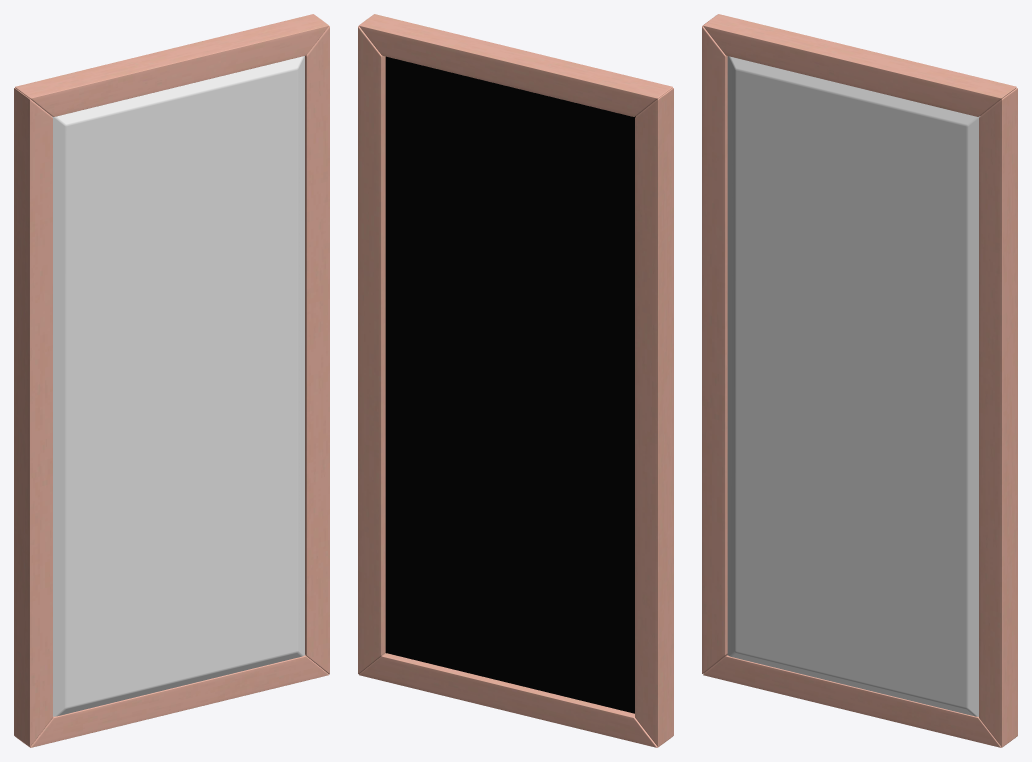
Rendered from mirror.glb.
The picture shows the model from 3 angles, left to right: view 1: azimuth 30°, elevation 25°; view 2: azimuth 150°, elevation 25°; view 3: azimuth 330°, elevation 25°; orthographic projection.
Parts seen in each view (by area): view 1: 2_media\gen\BZO\d\w\4\itvgjcefyg86afzvacw__r2__.bzo_3, 1_media\gen\BZO\d\w\4\itvgjcefyg86afzvacw__r2__.bzo_2; view 2: 0_media\gen\BZO\d\w\4\itvgjcefyg86afzvacw__r2__.bzo_1, 1_media\gen\BZO\d\w\4\itvgjcefyg86afzvacw__r2__.bzo_2; view 3: 2_media\gen\BZO\d\w\4\itvgjcefyg86afzvacw__r2__.bzo_3, 1_media\gen\BZO\d\w\4\itvgjcefyg86afzvacw__r2__.bzo_2.
Part boxes in pixels (x1=…): 2_media\gen\BZO\d\w\4\itvgjcefyg86afzvacw__r2__.bzo_3: x1=52, y1=56, x2=304, y2=716; 1_media\gen\BZO\d\w\4\itvgjcefyg86afzvacw__r2__.bzo_2: x1=14, y1=14, x2=329, y2=747; 0_media\gen\BZO\d\w\4\itvgjcefyg86afzvacw__r2__.bzo_1: x1=385, y1=56, x2=635, y2=713; 1_media\gen\BZO\d\w\4\itvgjcefyg86afzvacw__r2__.bzo_2: x1=358, y1=14, x2=673, y2=747; 2_media\gen\BZO\d\w\4\itvgjcefyg86afzvacw__r2__.bzo_3: x1=727, y1=56, x2=980, y2=716; 1_media\gen\BZO\d\w\4\itvgjcefyg86afzvacw__r2__.bzo_2: x1=702, y1=14, x2=1017, y2=747.
Size of the model in its own units: 0.5715 by 1.18 by 0.0572.
3 materials, 3 textured.
